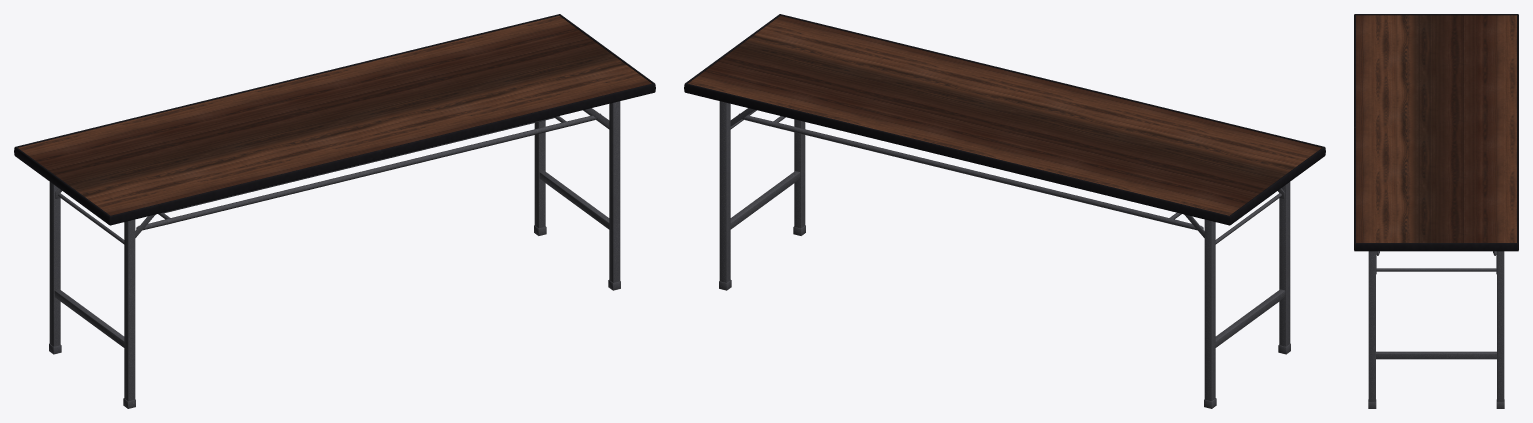
File: Table.fbx
3 renders of one model, left to right at view 1: azimuth 30°, elevation 25°; view 2: azimuth 150°, elevation 25°; view 3: azimuth 270°, elevation 25°, orthographic. The views are drawn at different scales.
Parts seen in each view (by area): view 1: Table; view 2: Table; view 3: Table.
Boxes of the visible parts, x1,y1,x2,y2 form: Table: [14, 14, 655, 408]; Table: [684, 14, 1325, 408]; Table: [1354, 14, 1518, 408].
Bounding box in the file's own units: 2.63 × 0.9417 × 0.797.
